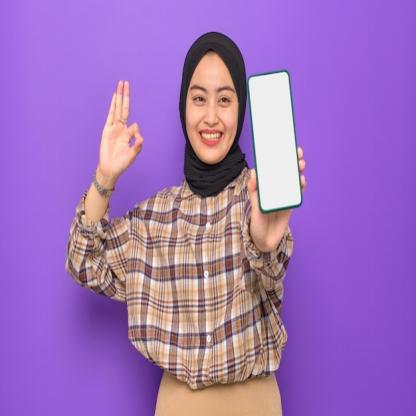ok: (97, 79, 145, 176)
